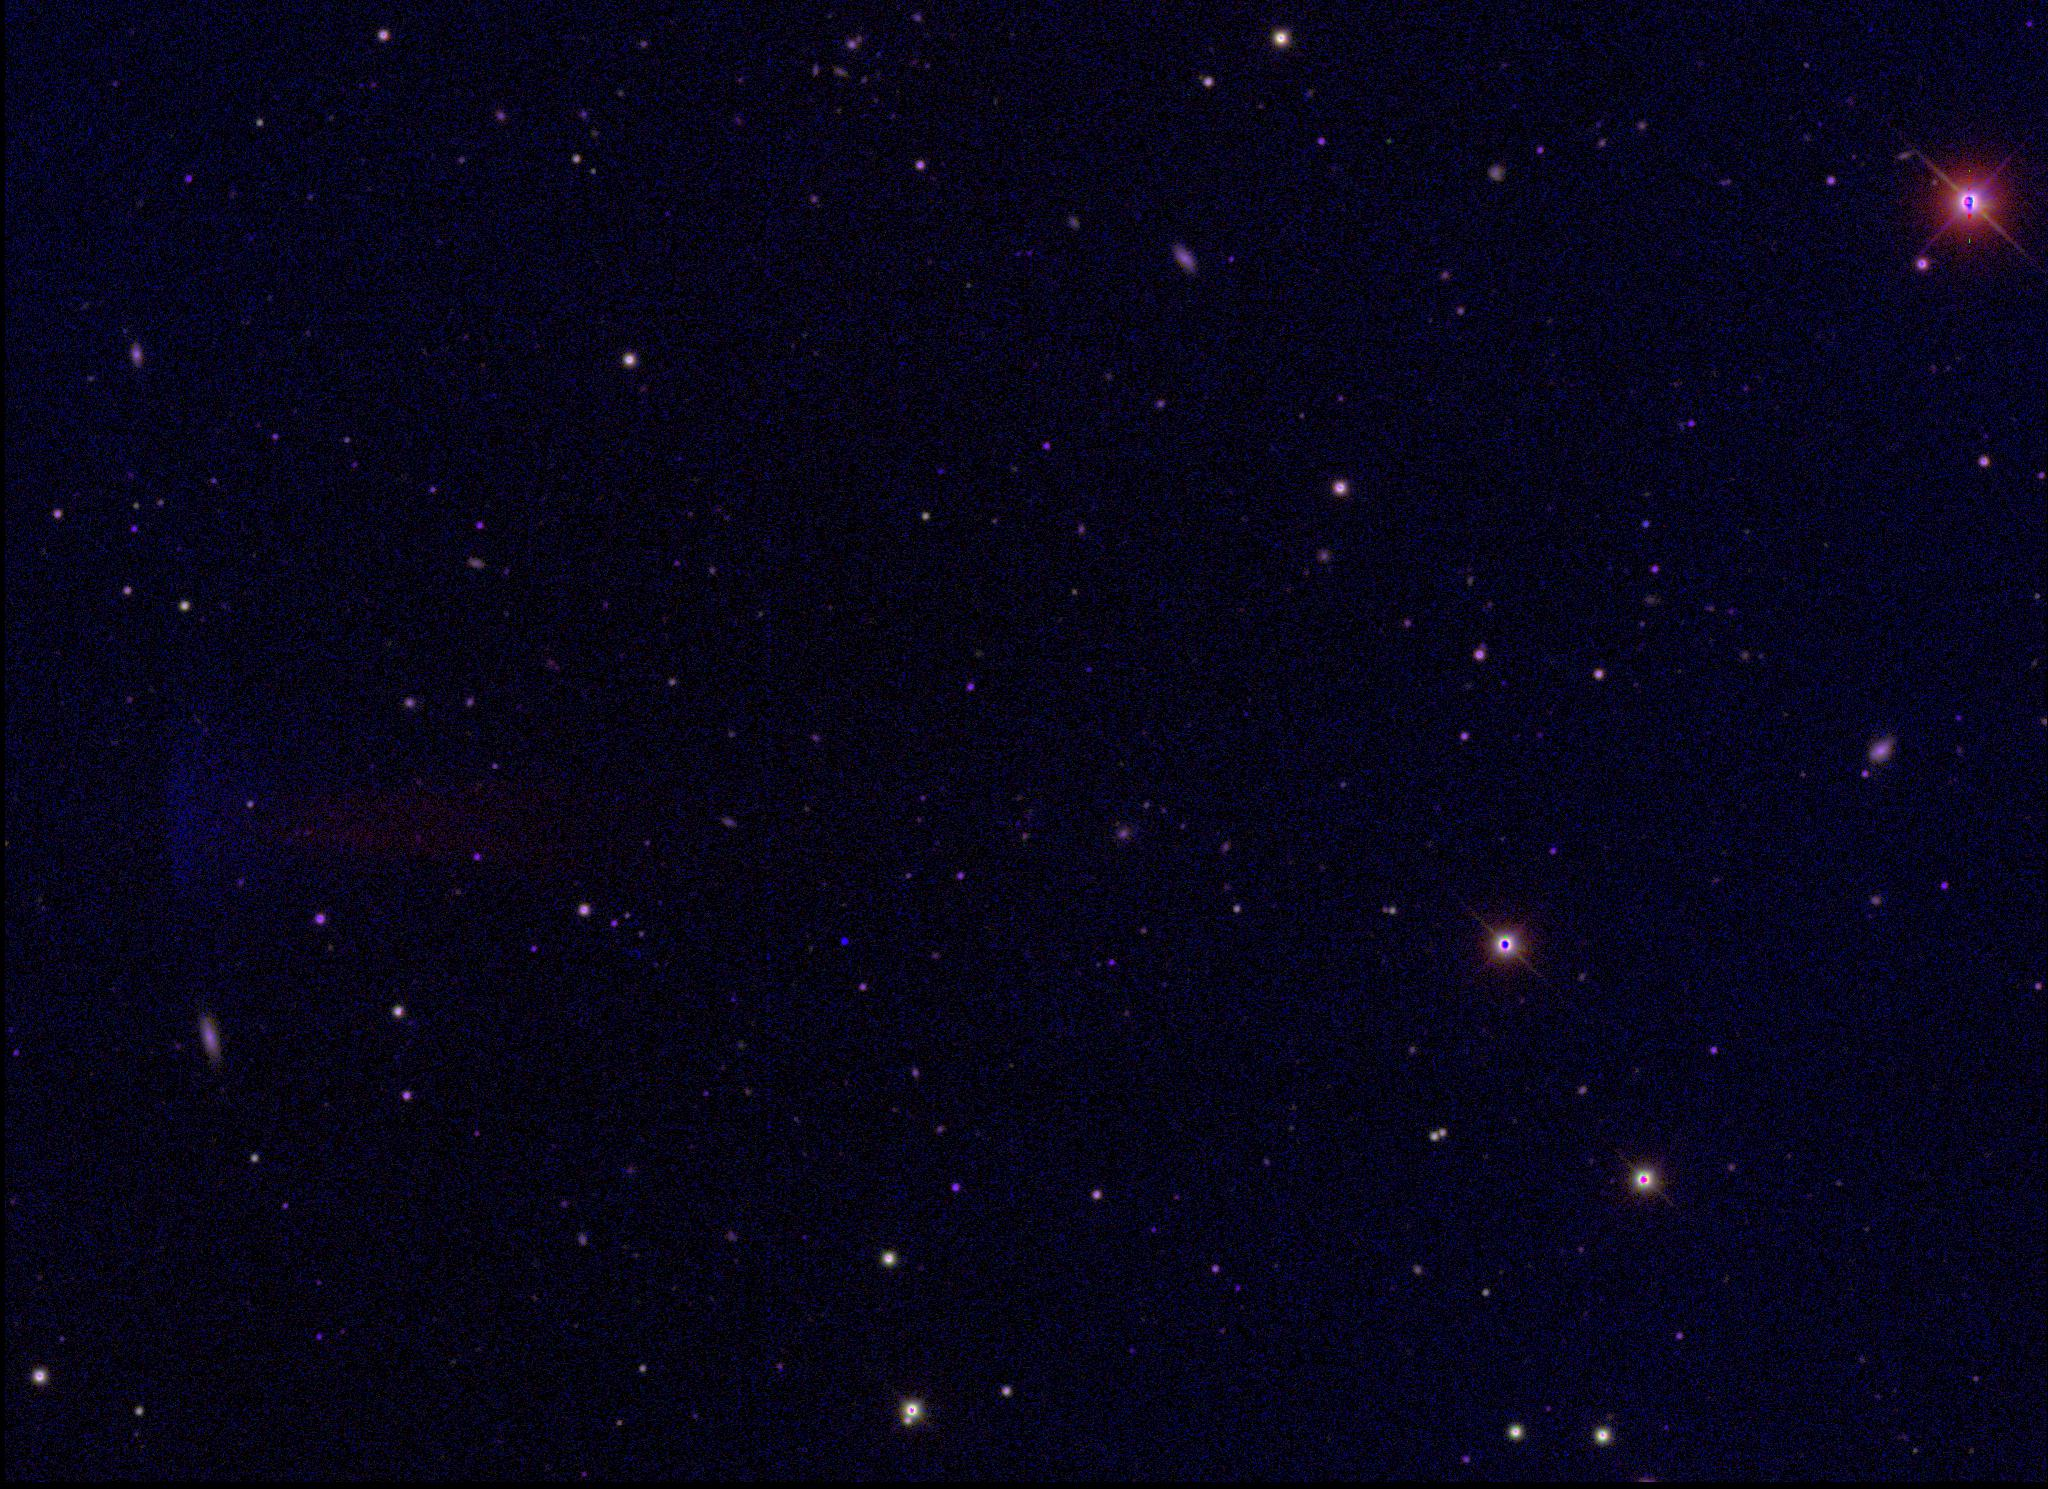L: (838, 934, 852, 948)
